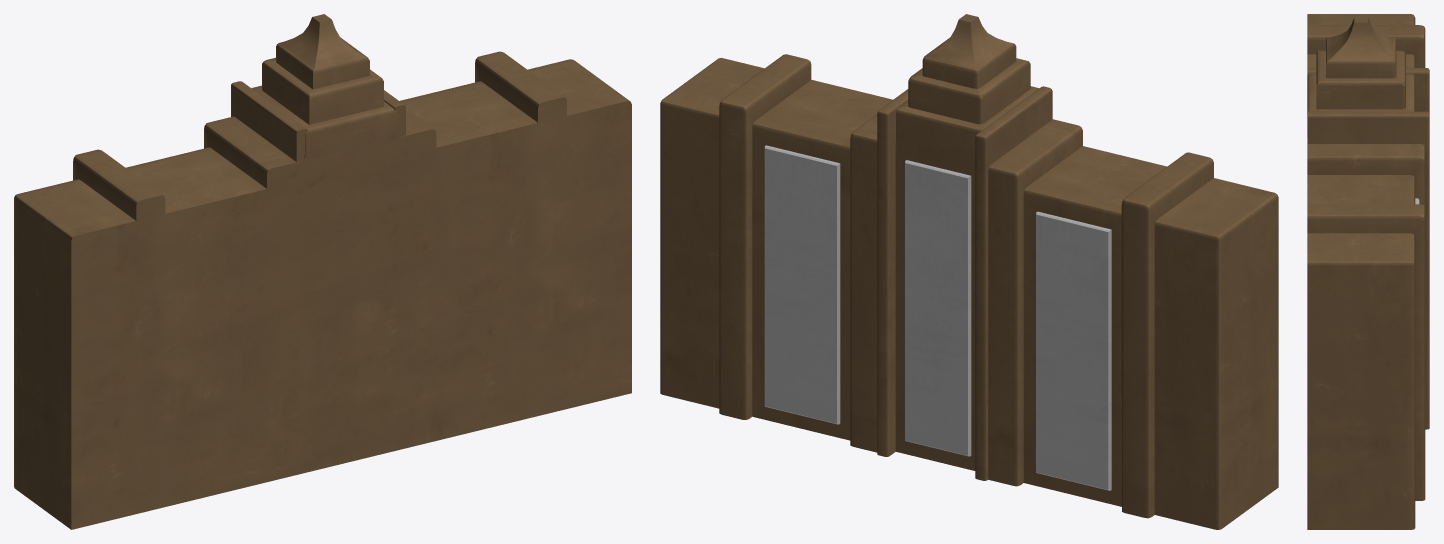
File: SM_Building04_RoofR.fbx
3 renders of one model, left to right at view 1: azimuth 30°, elevation 25°; view 2: azimuth 150°, elevation 25°; view 3: azimuth 270°, elevation 25°, orthographic. The views are drawn at different scales.
Visible parts, largest first — view 1: SM_Building04_RoofR_LOD0; view 2: SM_Building04_RoofR_LOD0; view 3: SM_Building04_RoofR_LOD0.
Part boxes in pixels (x1,y1,x2,y2): SM_Building04_RoofR_LOD0: (14, 14, 631, 529); SM_Building04_RoofR_LOD0: (660, 14, 1278, 529); SM_Building04_RoofR_LOD0: (1307, 14, 1429, 529).
Size of the model in its own units: 600 by 124 by 431.
2 materials, 2 textured.
